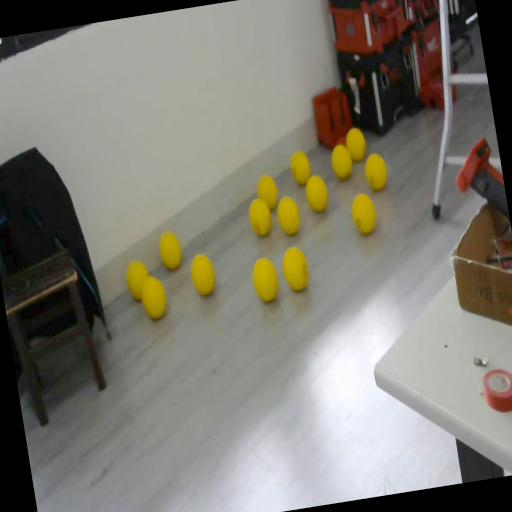FUEL: (278, 243, 312, 293), (248, 254, 282, 304), (136, 272, 170, 322), (186, 250, 218, 298), (348, 190, 378, 236), (361, 150, 390, 192), (274, 194, 302, 236), (156, 230, 184, 271), (246, 196, 273, 237), (303, 173, 330, 213), (254, 171, 280, 212), (342, 124, 368, 162), (328, 142, 354, 180), (288, 148, 312, 186)
